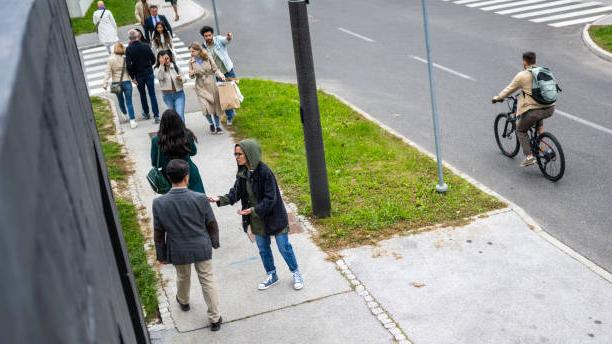coat: (146, 130, 202, 201), (189, 51, 223, 116)
jacket: (151, 186, 221, 268), (224, 159, 290, 240), (494, 67, 557, 116), (203, 34, 234, 73), (152, 58, 187, 92), (124, 39, 154, 76), (103, 54, 132, 82), (143, 14, 172, 40)
sweater: (217, 139, 287, 238)
trousers: (175, 257, 221, 323), (512, 106, 557, 156), (254, 229, 299, 278), (135, 71, 159, 118), (217, 68, 237, 122), (162, 88, 186, 130), (113, 78, 135, 122), (205, 111, 221, 130)
